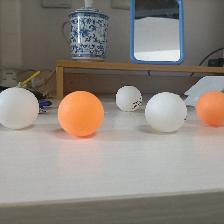WhiteBall: (144, 91, 186, 133), (1, 87, 39, 130), (115, 85, 142, 111)
YellowBall: (57, 90, 103, 136), (195, 89, 223, 126)
